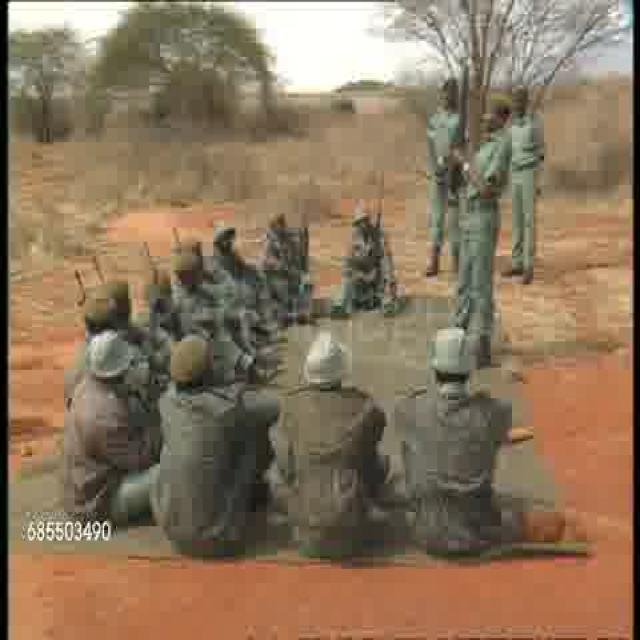poacher: (133, 326, 270, 536), (272, 318, 387, 539), (396, 327, 510, 537), (453, 90, 520, 326), (76, 331, 148, 504), (500, 80, 558, 283), (424, 76, 469, 264), (333, 196, 411, 304), (260, 208, 330, 306)
